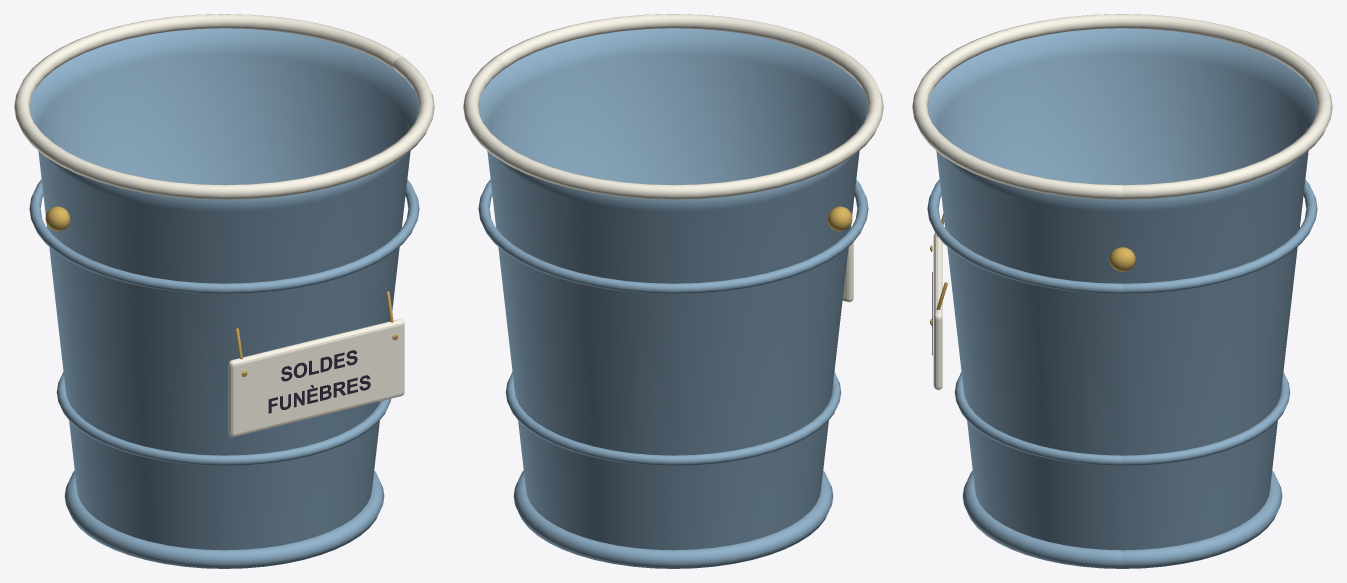
The model's file is bucket_clearance.glb.
3 renders of one model, left to right at view 1: azimuth 30°, elevation 25°; view 2: azimuth 150°, elevation 25°; view 3: azimuth 270°, elevation 25°, orthographic.
Visible parts, largest first — view 1: Open_metal_reservoir, Rolled_cream_lip, Removable_price_plaque, Reinforced_base, Pressed_bucket_rib.001, Pressed_bucket_rib, Label_bold_species; view 2: Open_metal_reservoir, Rolled_cream_lip, Reinforced_base, Pressed_bucket_rib.001, Pressed_bucket_rib; view 3: Open_metal_reservoir, Rolled_cream_lip, Reinforced_base, Pressed_bucket_rib.001, Pressed_bucket_rib, Removable_price_plaque, Handle_rivet.001.
Boxes of the visible parts, bbox=[...] form: Open_metal_reservoir: bbox=[30, 28, 418, 550]; Rolled_cream_lip: bbox=[14, 14, 434, 199]; Removable_price_plaque: bbox=[228, 319, 404, 436]; Reinforced_base: bbox=[64, 471, 384, 568]; Pressed_bucket_rib.001: bbox=[29, 179, 419, 294]; Pressed_bucket_rib: bbox=[56, 372, 390, 465]; Label_bold_species: bbox=[268, 350, 370, 413]; Open_metal_reservoir: bbox=[479, 28, 867, 550]; Rolled_cream_lip: bbox=[463, 14, 883, 199]; Reinforced_base: bbox=[513, 471, 833, 568]; Pressed_bucket_rib.001: bbox=[478, 179, 868, 294]; Pressed_bucket_rib: bbox=[505, 372, 841, 465]; Open_metal_reservoir: bbox=[928, 28, 1316, 550]; Rolled_cream_lip: bbox=[912, 14, 1332, 199]; Reinforced_base: bbox=[962, 471, 1282, 568]; Pressed_bucket_rib.001: bbox=[927, 179, 1317, 294]; Pressed_bucket_rib: bbox=[954, 372, 1290, 465]; Removable_price_plaque: bbox=[933, 233, 942, 390]; Handle_rivet.001: bbox=[1109, 247, 1135, 271].
Size of the model in its own units: 0.374 by 0.407 by 0.374.
